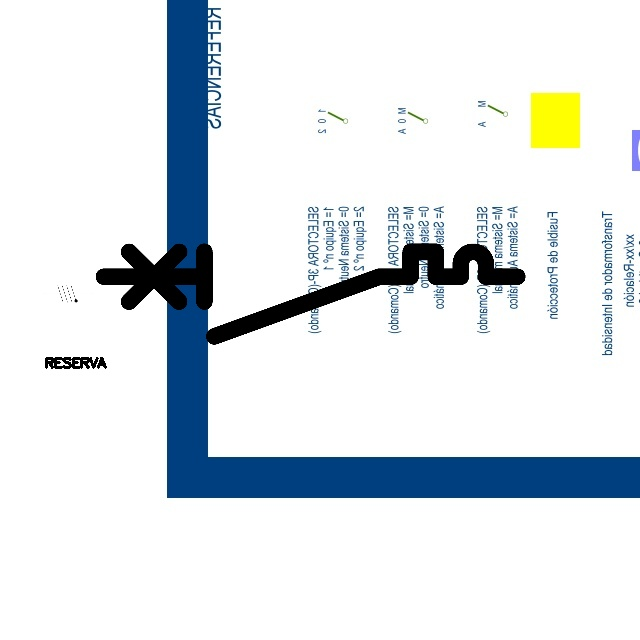interruptor_termomagnetico: (93, 241, 528, 347)
